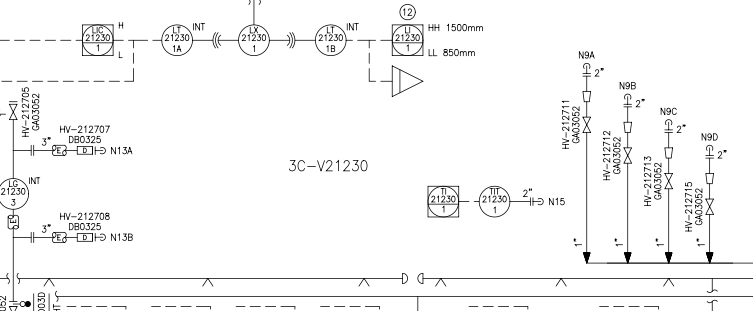Instrument: (234, 19, 274, 59), (311, 21, 346, 58), (159, 22, 194, 58), (478, 183, 511, 218)
Instrument-square: (423, 181, 462, 220), (77, 19, 116, 58), (387, 21, 426, 59)
